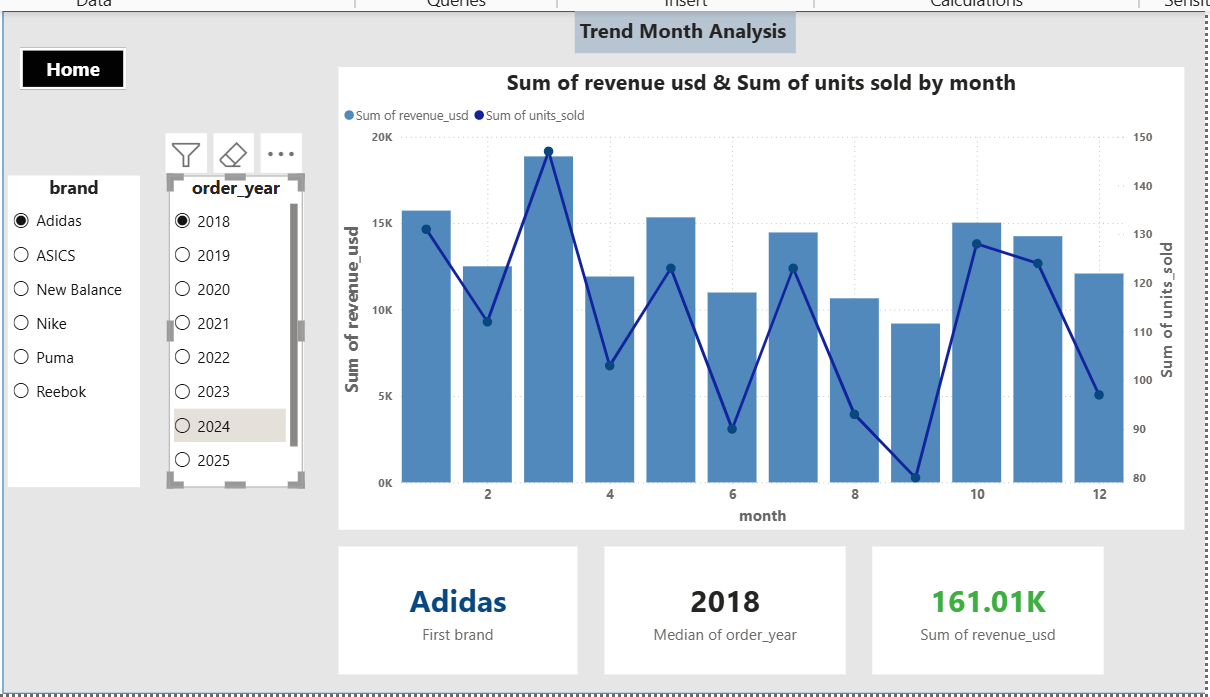

This screenshot's page, from the dashboard's own definition file:
{"tool":"powerbi","page":{"name":"Trend_Month_Analysis","canvas":[1280,720],"ordinal":4},"visuals":[{"type":"shape","box":[10.3,0,1269.7,720],"z":0},{"type":"listSlicer","fields":{"Values":["global_footwear_cleaned_data.order_year"]},"box":[187.1,173.4,141.5,328.6],"z":1000},{"type":"lineStackedColumnComboChart","title":"Sum of revenue usd & Sum of units sold by month","fields":{"Category":["global_footwear_cleaned_data.month"],"Y":["Sum(global_footwear_cleaned_data.revenue_usd)"],"Y2":["Sum(global_footwear_cleaned_data.units_sold)"]},"box":[365.1,59.3,892.1,488.3],"z":2000},{"type":"listSlicer","fields":{"Values":["global_footwear_cleaned_data.brand"]},"box":[16,173.4,139.2,328.6],"z":3000},{"type":"card","fields":{"Values":["Min(global_footwear_cleaned_data.brand)"]},"box":[366.1,564.5,251.7,134.8],"z":4000},{"type":"card","fields":{"Values":["Median(global_footwear_cleaned_data.order_year)"]},"box":[645.8,564.5,254.3,134.8],"z":5000},{"type":"card","fields":{"Values":["Sum(global_footwear_cleaned_data.revenue_usd)"]},"box":[928,564.5,244.1,134.8],"z":6000},{"type":"actionButton","box":[30.3,39.6,111.8,44.3],"z":7000},{"type":"textbox","box":[614.9,0,233.3,44.3],"z":8000}]}

Visuals, with their boxes on the page's 1280x720 design canvas (x1, y1, x2, y2). These are canvas units, not pixel positions in the 1210x697 screenshot, which may show the page scaled, cropped or inside an application window:
shape: {"left": 10, "top": 0, "right": 1280, "bottom": 720}
listSlicer - global_footwear_cleaned_data.order_year: {"left": 187, "top": 173, "right": 329, "bottom": 502}
"Sum of revenue usd & Sum of units sold by month" lineStackedColumnComboChart: {"left": 365, "top": 59, "right": 1257, "bottom": 548}
listSlicer - global_footwear_cleaned_data.brand: {"left": 16, "top": 173, "right": 155, "bottom": 502}
card - Min(global_footwear_cleaned_data.brand): {"left": 366, "top": 564, "right": 618, "bottom": 699}
card - Median(global_footwear_cleaned_data.order_year): {"left": 646, "top": 564, "right": 900, "bottom": 699}
card - Sum(global_footwear_cleaned_data.revenue_usd): {"left": 928, "top": 564, "right": 1172, "bottom": 699}
actionButton: {"left": 30, "top": 40, "right": 142, "bottom": 84}
textbox: {"left": 615, "top": 0, "right": 848, "bottom": 44}
